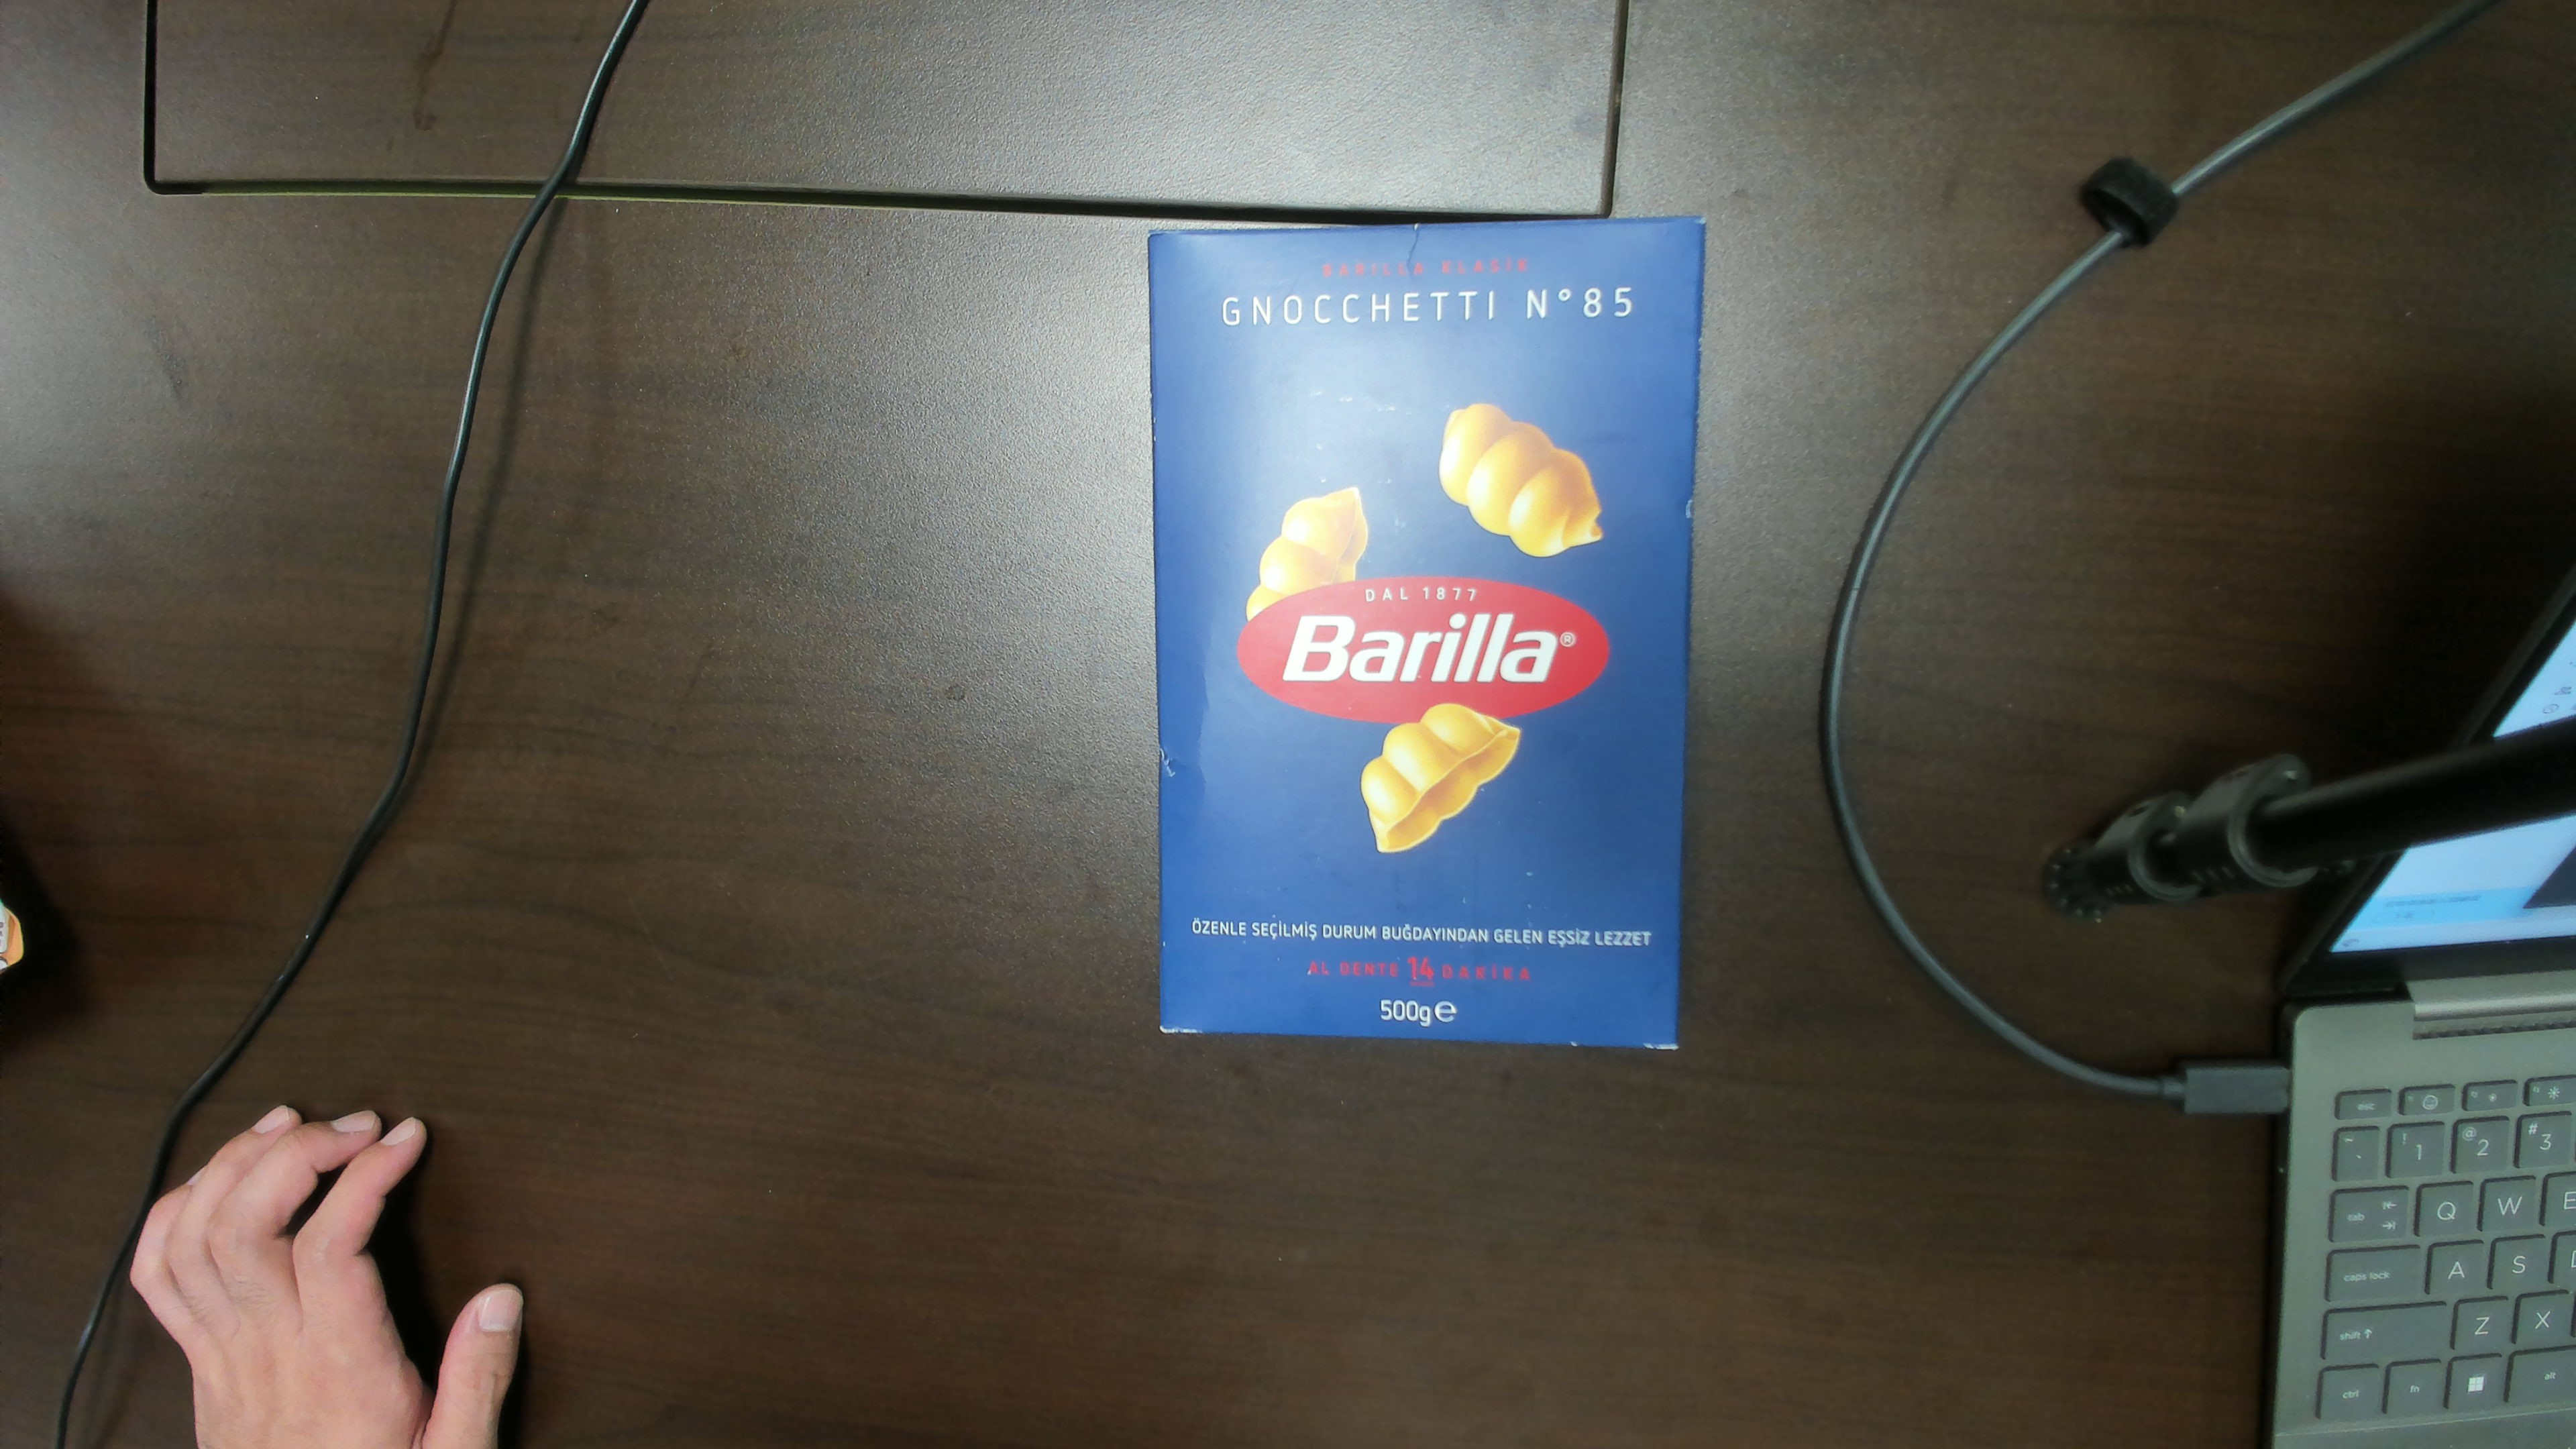Pasta_400-499g_Halal_NonHealthy: (1157, 239, 1675, 1040)
